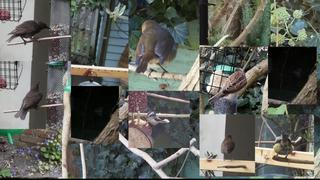blue tit: (273, 134, 294, 162)
long tailed tit: (144, 111, 170, 129)
robin: (134, 20, 180, 79), (221, 134, 235, 162)
sparrow: (208, 67, 248, 105)
starling: (14, 81, 43, 120), (6, 20, 51, 45)
